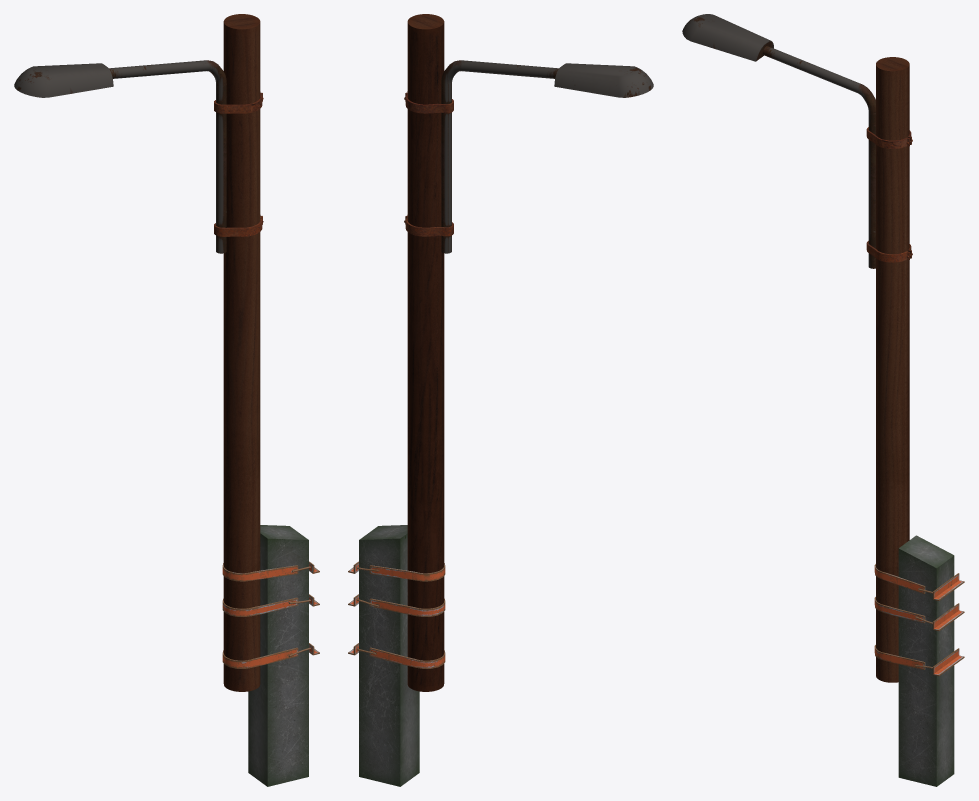
The model's file is post.glb.
The picture shows the model from 3 angles, left to right: view 1: azimuth 30°, elevation 25°; view 2: azimuth 150°, elevation 25°; view 3: azimuth 330°, elevation 25°; orthographic projection. The views are drawn at different scales.
Visible parts, largest first — view 1: stolb_low.001, stone_low, plafon_low, metal_1_low, metal_2_low; view 2: stolb_low.001, stone_low, plafon_low, metal_1_low, metal_2_low; view 3: stolb_low.001, stone_low, plafon_low, metal_1_low, metal_2_low.
Part boxes in pixels (x1=…): stolb_low.001: x1=223, y1=14, x2=260, y2=691; stone_low: x1=248, y1=525, x2=308, y2=786; plafon_low: x1=14, y1=60, x2=226, y2=253; metal_1_low: x1=222, y1=561, x2=319, y2=668; metal_2_low: x1=214, y1=92, x2=263, y2=236; stolb_low.001: x1=407, y1=14, x2=444, y2=691; stone_low: x1=359, y1=525, x2=419, y2=786; plafon_low: x1=441, y1=60, x2=653, y2=253; metal_1_low: x1=348, y1=561, x2=445, y2=668; metal_2_low: x1=404, y1=91, x2=453, y2=236; stolb_low.001: x1=876, y1=57, x2=909, y2=682; stone_low: x1=898, y1=535, x2=954, y2=786; plafon_low: x1=682, y1=14, x2=875, y2=268; metal_1_low: x1=874, y1=564, x2=964, y2=676; metal_2_low: x1=866, y1=127, x2=912, y2=262.
Size of the model in its own units: 1.82 by 4.61 by 0.302.
Materials: 1 (1 with a texture image).
